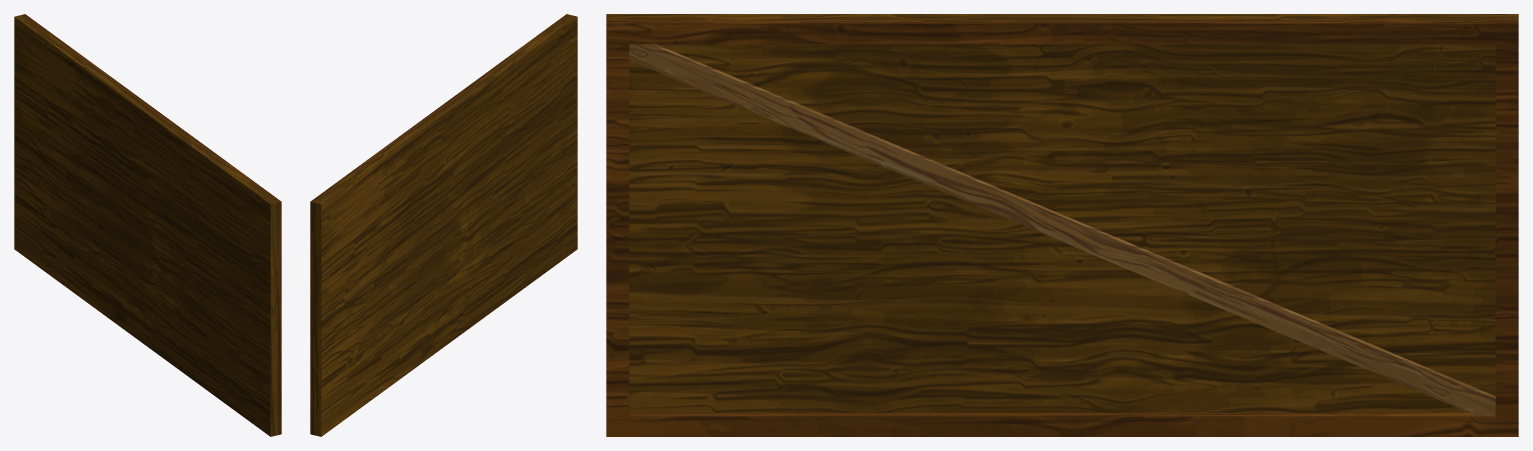
The model's file is C_CrateSides_L04.fbx.
3 renders of one model, left to right at view 1: azimuth 30°, elevation 25°; view 2: azimuth 150°, elevation 25°; view 3: azimuth 270°, elevation 25°, orthographic. The views are drawn at different scales.
Parts seen in each view (by area): view 1: CrateBack_Long, CrateEdge_Long; view 2: CrateBack_Long, CrateEdge_Long; view 3: CrateBack_Long, CrateEdge_Long, CrateCross_04_Long.
Boxes of the visible parts, bbox=[...] form: CrateBack_Long: bbox=[14, 15, 277, 436]; CrateEdge_Long: bbox=[22, 14, 281, 434]; CrateBack_Long: bbox=[314, 15, 577, 436]; CrateEdge_Long: bbox=[310, 14, 569, 434]; CrateBack_Long: bbox=[606, 14, 1518, 412]; CrateEdge_Long: bbox=[606, 20, 1518, 436]; CrateCross_04_Long: bbox=[629, 44, 1495, 415].
Bounding box in the file's own units: 0.15 × 3 × 6.
